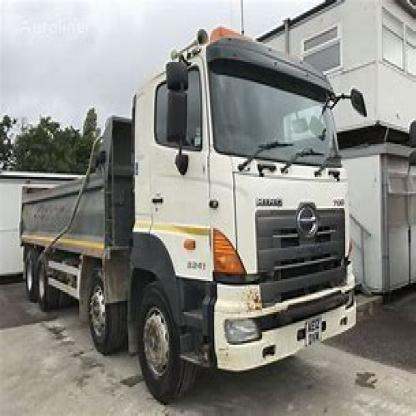dump_truck: (18, 33, 361, 396)
